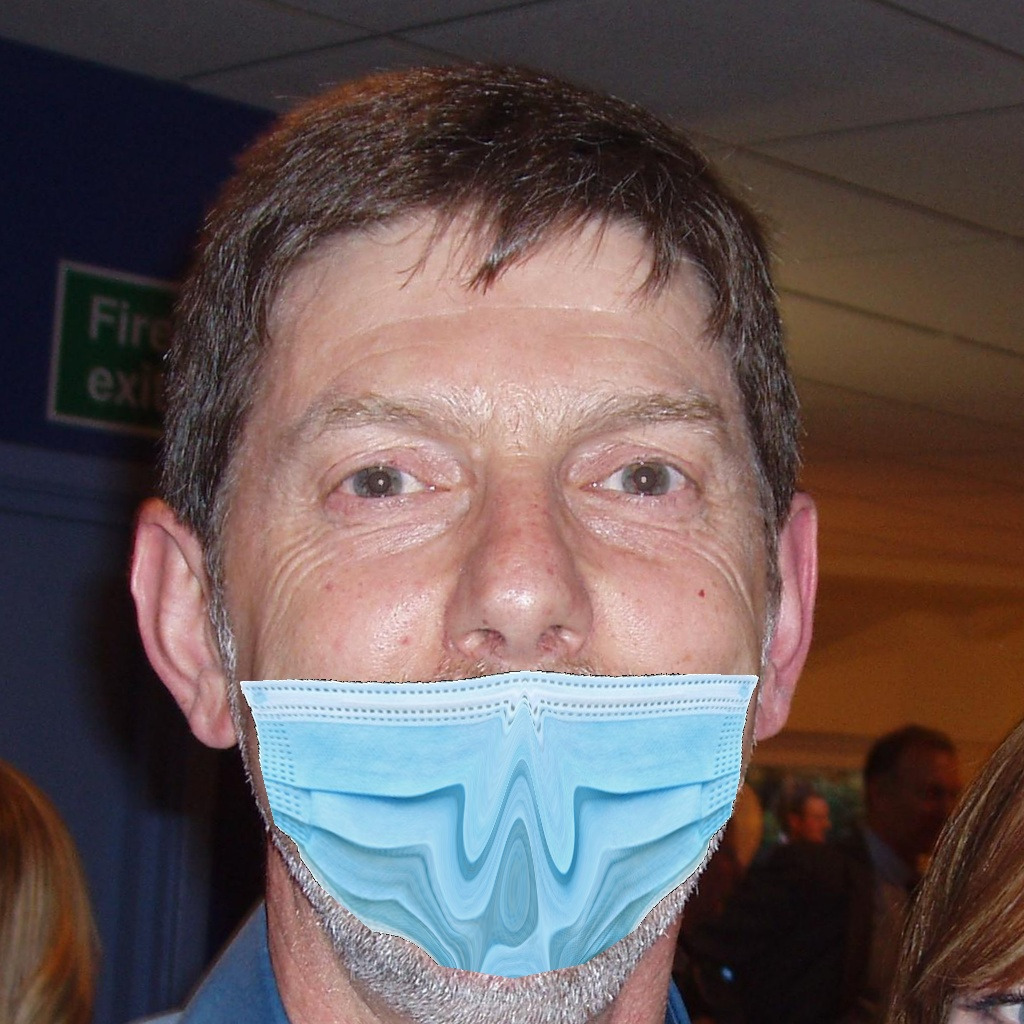mascarilla_mal_puesta: (192, 318, 774, 970)
